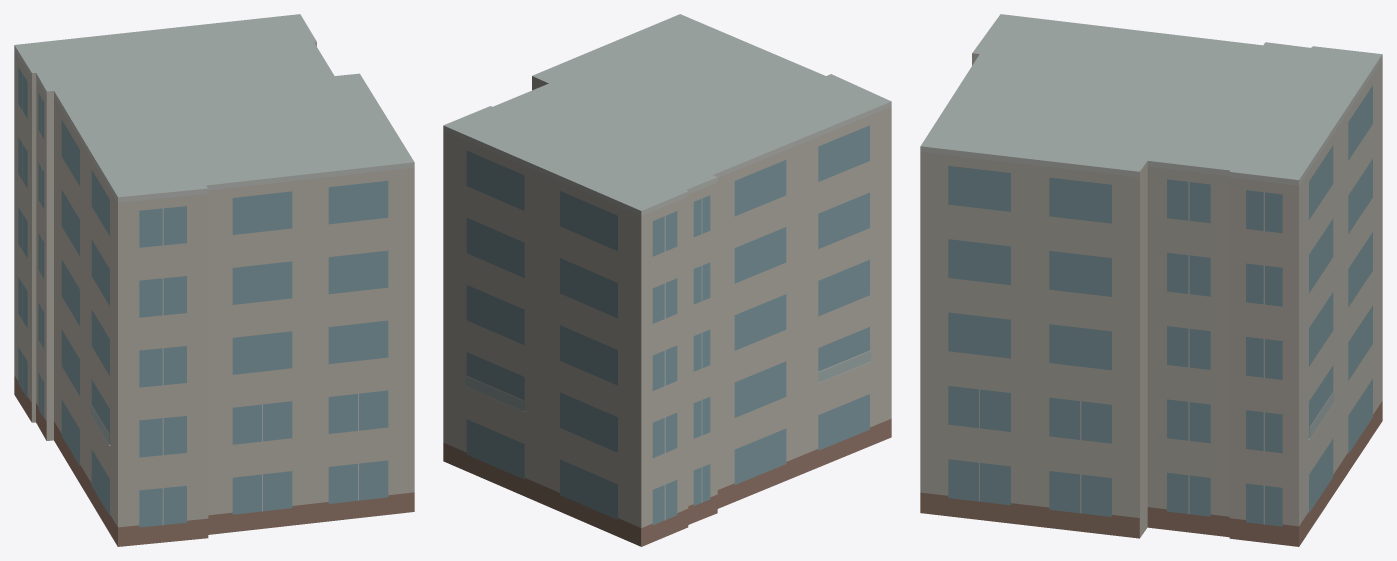
The model's file is survey-upis-32763001.glb.
The picture shows the model from 3 angles, left to right: view 1: azimuth 30°, elevation 25°; view 2: azimuth 150°, elevation 25°; view 3: azimuth 270°, elevation 25°; orthographic projection. The views are drawn at different scales.
Parts seen in each view (by area): view 1: survey-upis-32763001.tmp; view 2: survey-upis-32763001.tmp; view 3: survey-upis-32763001.tmp.
Boxes of the visible parts, x1,y1,x2,y2 form: survey-upis-32763001.tmp: (14, 14, 414, 546); survey-upis-32763001.tmp: (443, 14, 891, 546); survey-upis-32763001.tmp: (920, 14, 1382, 546).
Size of the model in its own units: 15.46 by 15.9 by 18.17.
